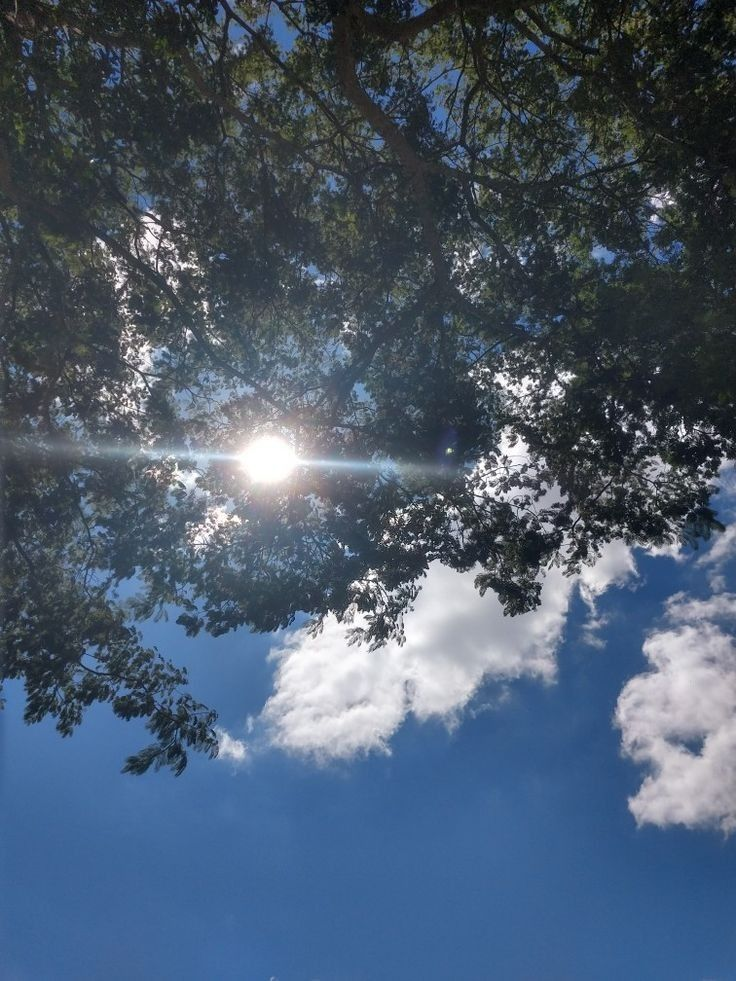sun: (220, 430, 317, 497)
